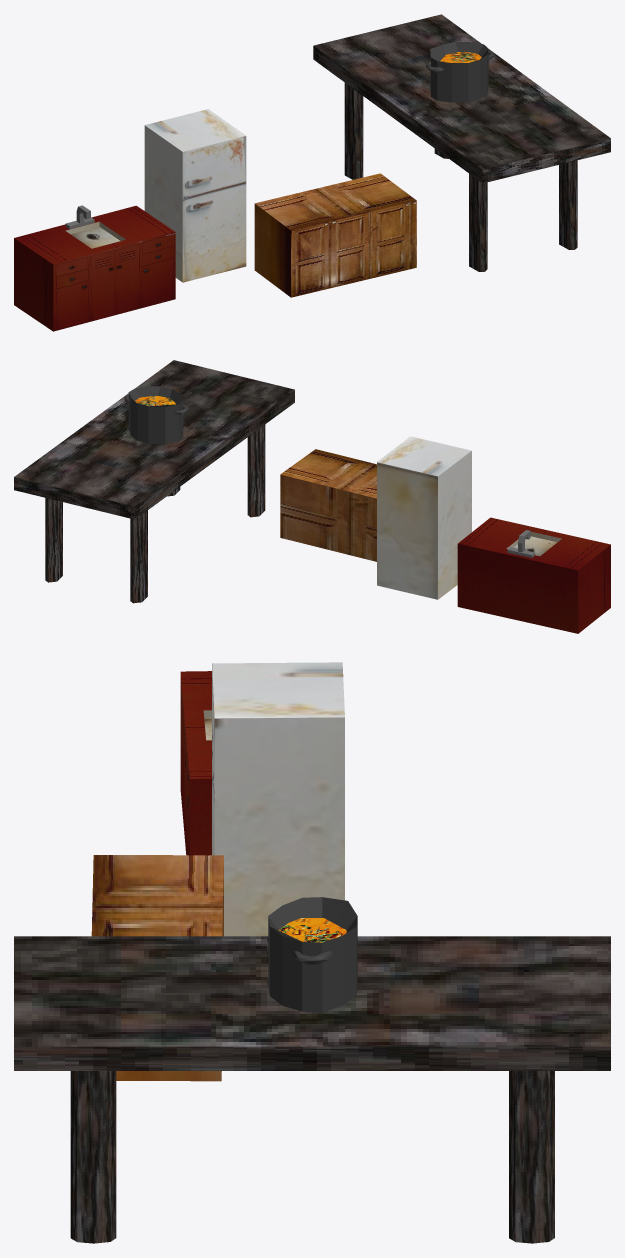
Rendered from Kitchen Pack.glb.
3 views of the same model, one above another, from view 1: azimuth 30°, elevation 25°; view 2: azimuth 150°, elevation 25°; view 3: azimuth 270°, elevation 25° (orthographic). The views are drawn at different scales.
Visible parts, largest first — view 1: Table, Kitchen Sink, Cabinet, Fridge, Soup; view 2: Table, Kitchen Sink, Fridge, Cabinet, Soup; view 3: Table, Fridge, Cabinet, Soup, Kitchen Sink.
Boxes of the visible parts, x1=… form: Table: x1=313, y1=14, x2=610, y2=271; Kitchen Sink: x1=14, y1=205, x2=175, y2=331; Cabinet: x1=254, y1=173, x2=416, y2=297; Fridge: x1=144, y1=109, x2=246, y2=282; Soup: x1=426, y1=41, x2=493, y2=102; Table: x1=14, y1=360, x2=294, y2=603; Kitchen Sink: x1=457, y1=517, x2=610, y2=633; Fridge: x1=377, y1=436, x2=471, y2=599; Cabinet: x1=280, y1=449, x2=376, y2=561; Soup: x1=124, y1=386, x2=188, y2=444; Table: x1=14, y1=936, x2=610, y2=1243; Fridge: x1=212, y1=662, x2=344, y2=936; Cabinet: x1=91, y1=855, x2=223, y2=1081; Soup: x1=268, y1=897, x2=357, y2=1012; Kitchen Sink: x1=180, y1=671, x2=211, y2=855.
Size of the model in its own units: 8 by 2.37 by 4.57.
Materials: 7 (5 with a texture image).
